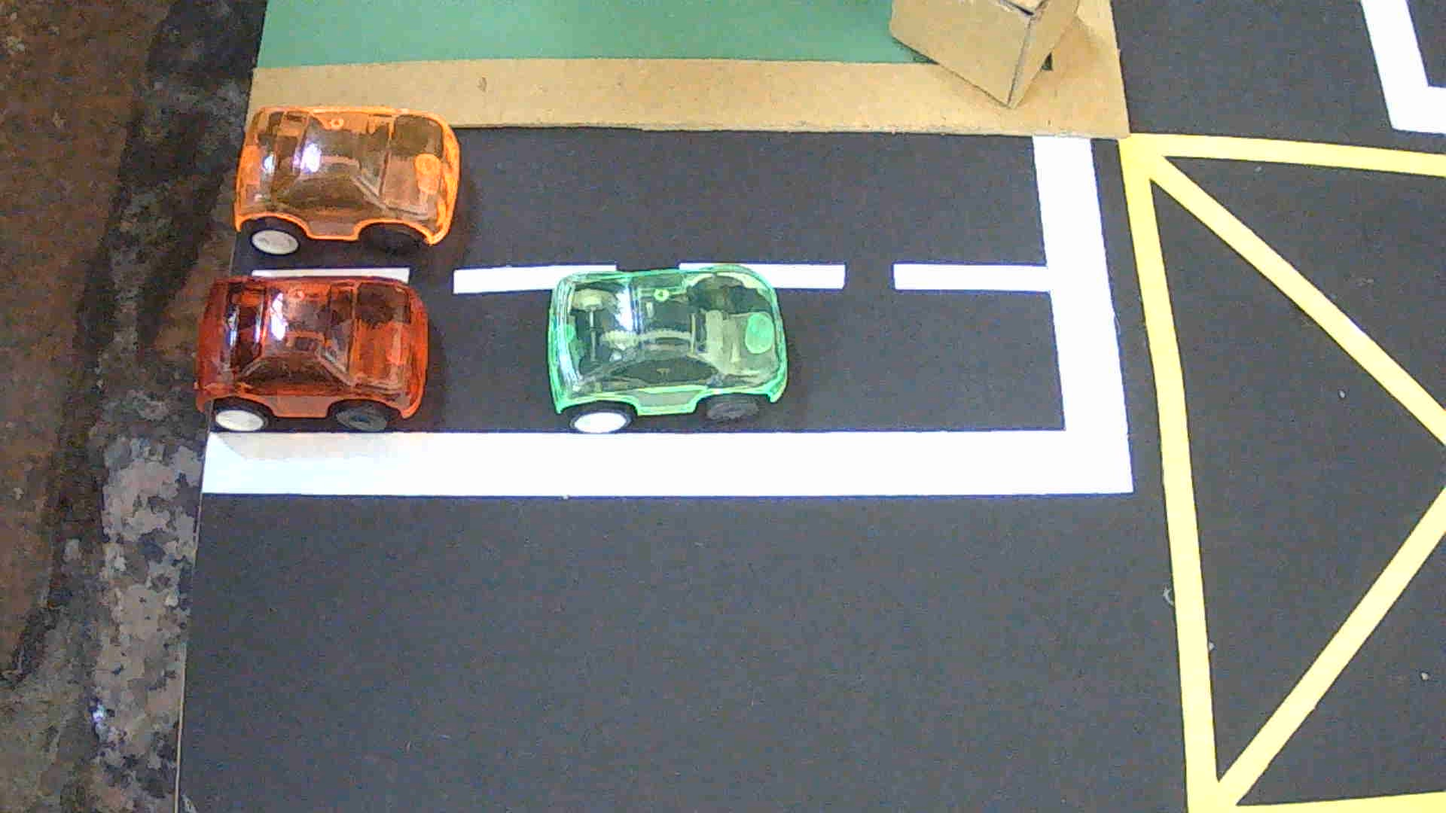Mobil hijau: (548, 264, 788, 434)
Mobil merah: (196, 274, 429, 432)
Mobil orange: (235, 107, 459, 255)
